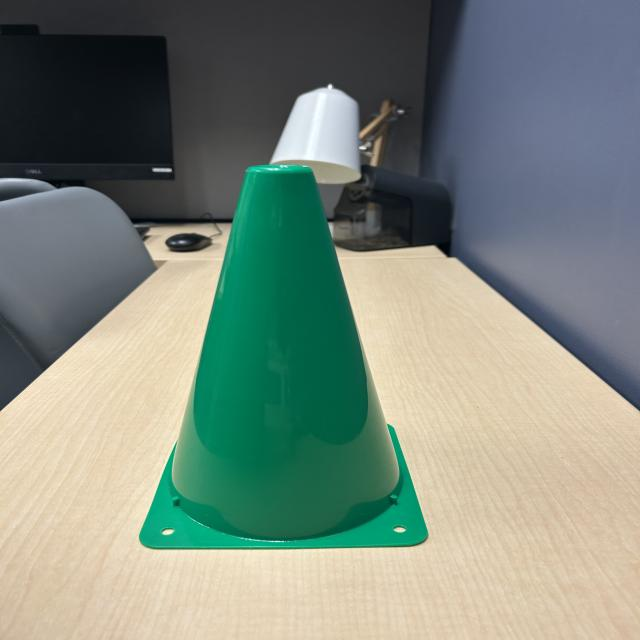green cone: (126, 162, 431, 552)
